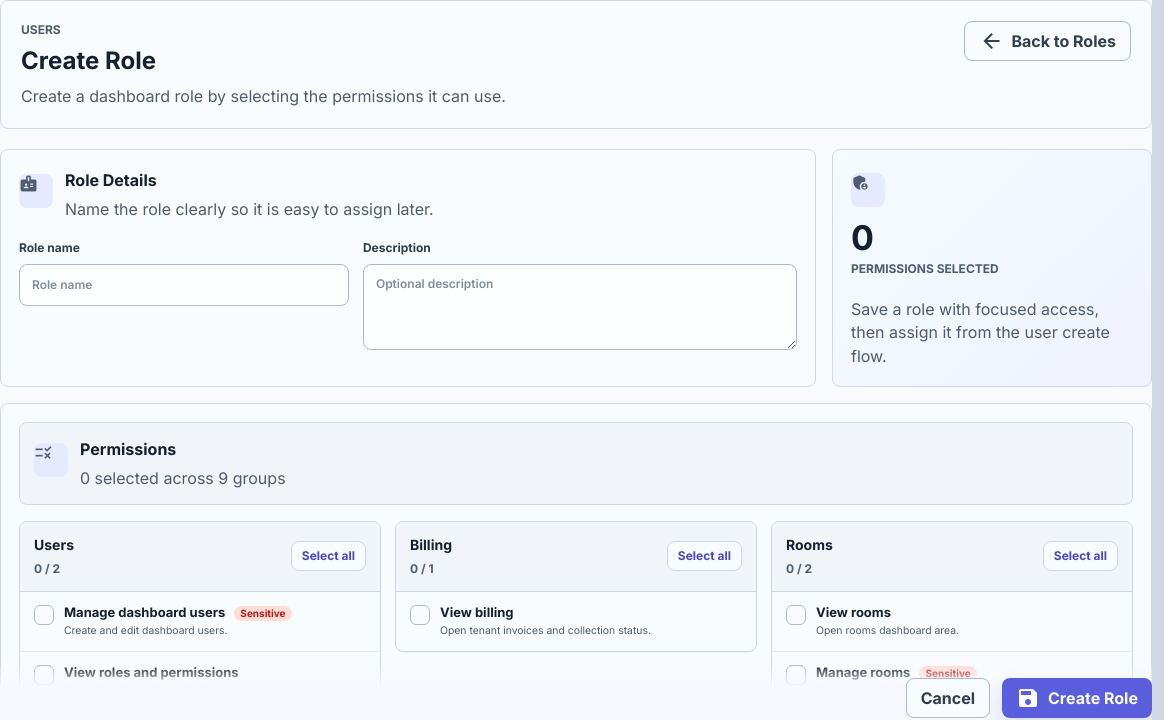
it: TenantRoleFormComponent › renders required dashboard permission groups with counts and selected states
Click the checkbox labelled "View rooms Open rooms dashboard area.". click: (952, 622)
box: left=772, top=592, right=1132, bottom=652
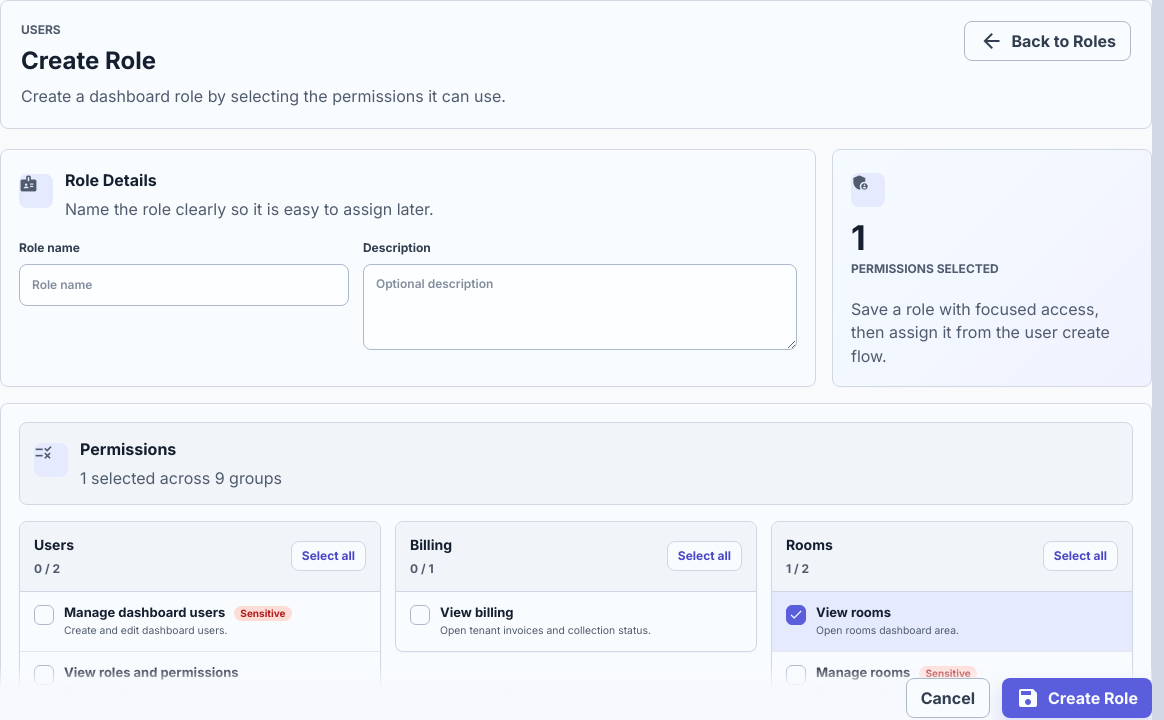
Result: the checkbox labelled "View rooms Open rooms dashboard area." is checked at left=772, top=592, right=1132, bottom=652
Result: the element with class "tenant-role-form-permission-group" shows "1 / 2" at left=786, top=561, right=809, bottom=576
